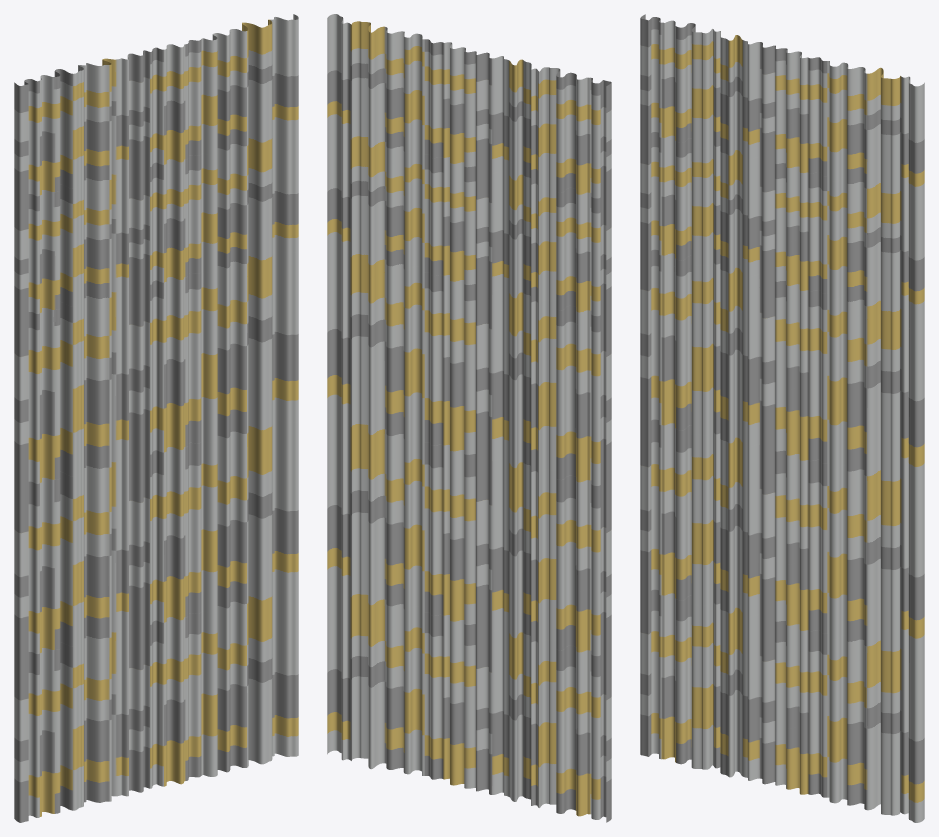
File: chuanglian1.FBX
The picture shows the model from 3 angles, left to right: view 1: azimuth 30°, elevation 25°; view 2: azimuth 150°, elevation 25°; view 3: azimuth 330°, elevation 25°; orthographic projection.
Visible parts, largest first — view 1: Line001; view 2: Line001; view 3: Line001.
Boxes of the visible parts, <box> form: Line001: <box>14,14,298,822</box>; Line001: <box>327,14,611,822</box>; Line001: <box>640,14,924,822</box>.
Bounding box in the file's own units: 112 × 280 × 7.47.
1 material, 1 textured.
